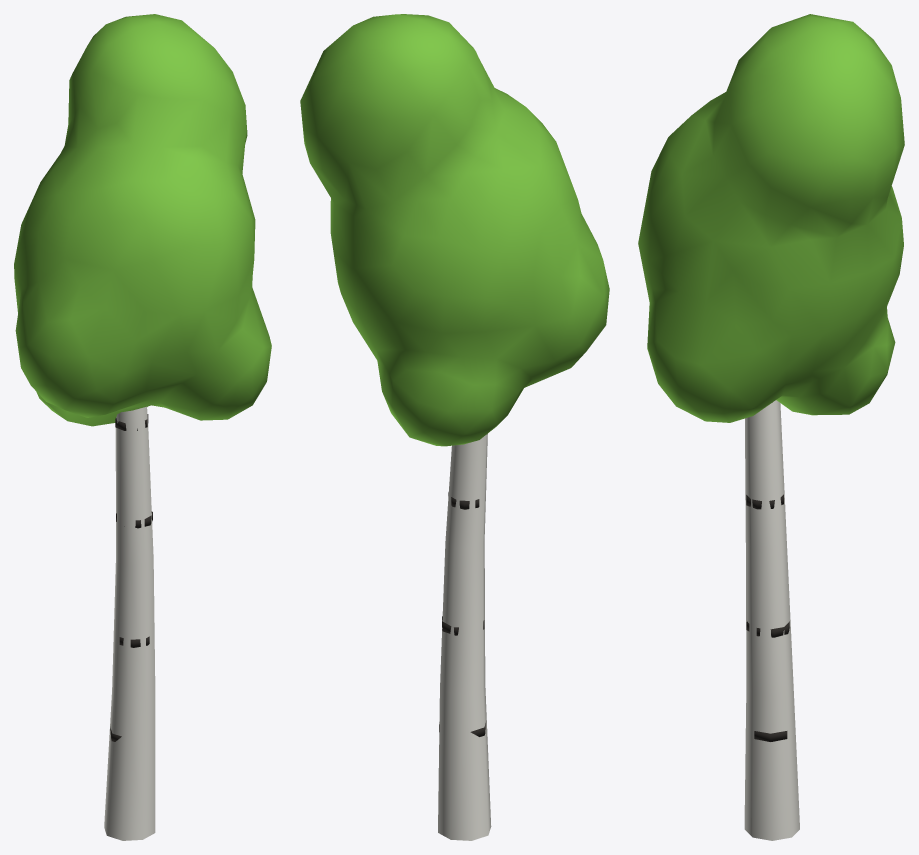
Rendered from tree_birch.glb.
3 renders of one model, left to right at view 1: azimuth 30°, elevation 25°; view 2: azimuth 150°, elevation 25°; view 3: azimuth 270°, elevation 25°, orthographic. The views are drawn at different scales.
Parts seen in each view (by area): view 1: tree_birch; view 2: tree_birch; view 3: tree_birch.
Part boxes in pixels (bbox=[...]): tree_birch: bbox=[14, 14, 271, 840]; tree_birch: bbox=[300, 14, 609, 840]; tree_birch: bbox=[638, 14, 904, 840].
Size of the model in its own units: 2.34 by 7.2 by 2.11.
